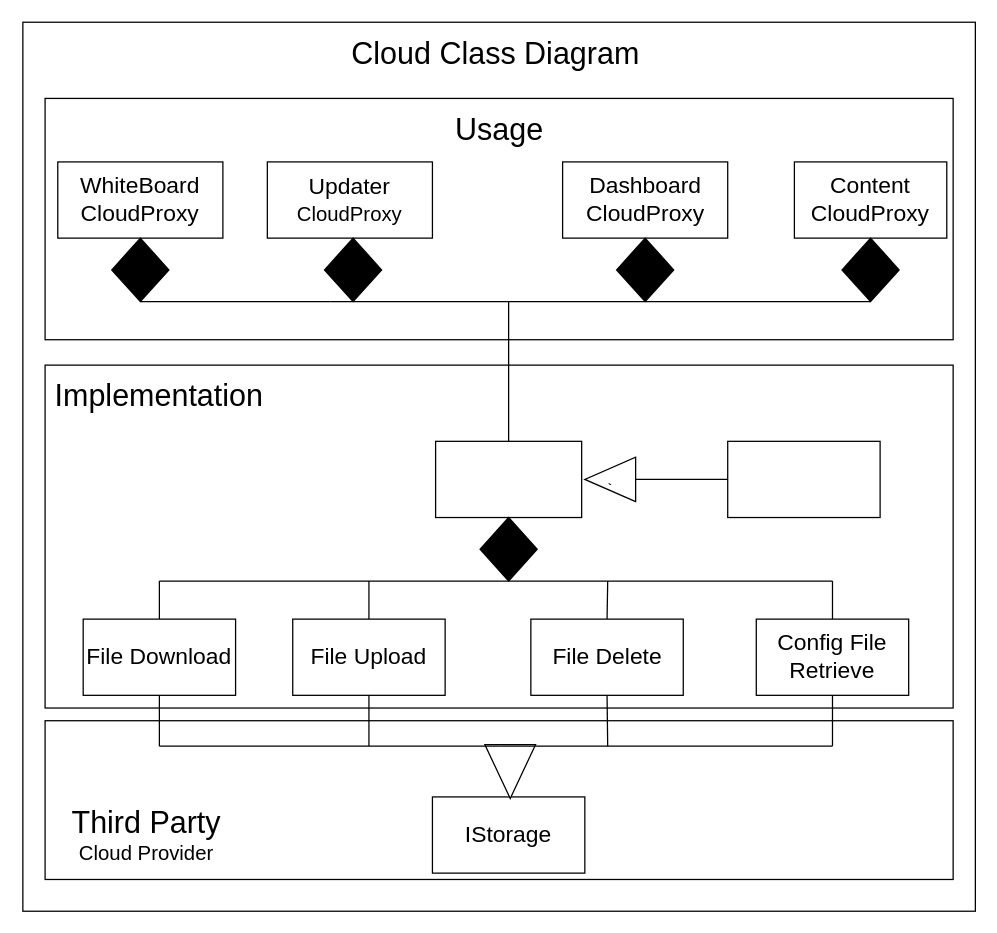
This 997x933 diagram has some shape labels left out. Here are the shapes that lost their labels. From the top down, the centre of each, then its label:
At [508,479]: "Cloud".
At [803,479]: "ICloud".
